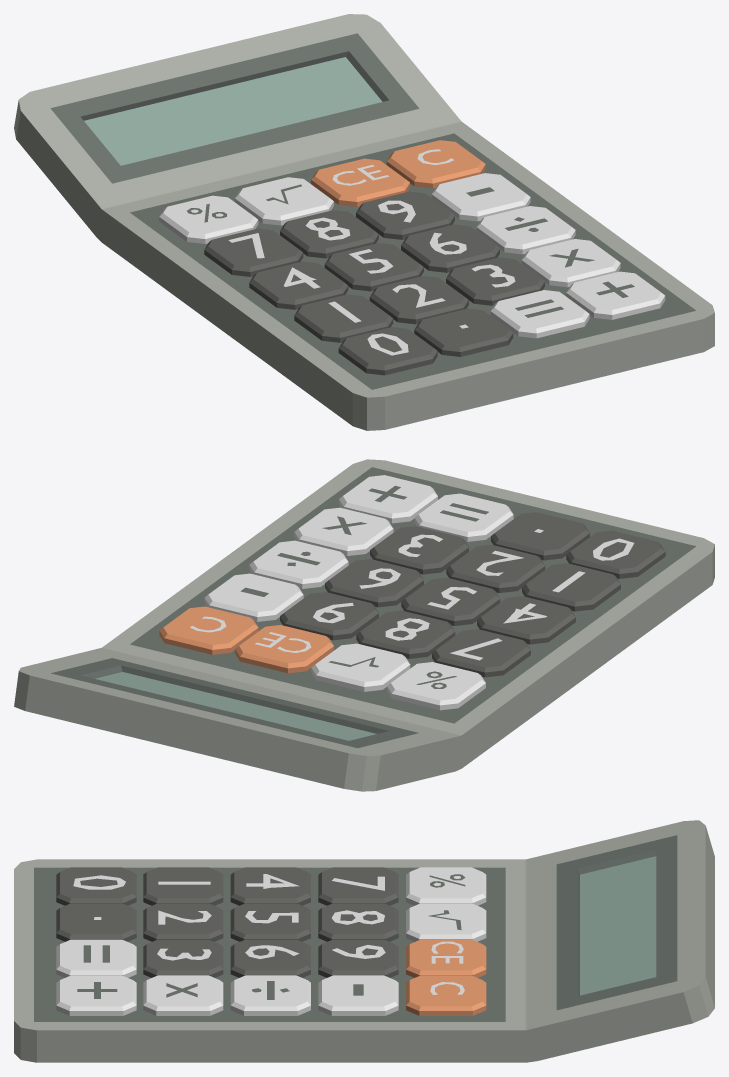
File: maths.glb
The picture shows the model from 3 angles, top to bottom: view 1: azimuth 30°, elevation 25°; view 2: azimuth 150°, elevation 25°; view 3: azimuth 270°, elevation 25°; orthographic projection. The views are drawn at different scales.
Parts seen in each view (by area): view 1: Text; view 2: Text; view 3: Text.
Part boxes in pixels (x1,y1,x2,y2): Text: [14, 14, 714, 430]; Text: [14, 459, 714, 791]; Text: [14, 820, 714, 1062].
Bounding box in the file's own units: 1.1 × 0.2286 × 1.91.
